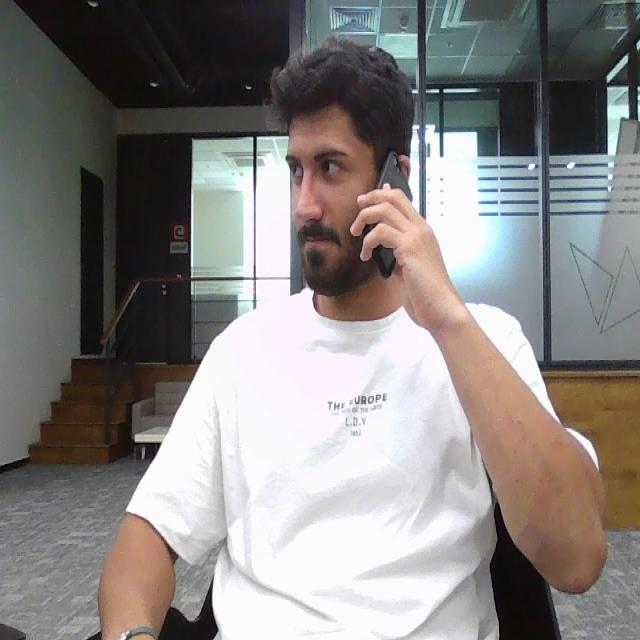phone: (364, 157, 415, 271)
